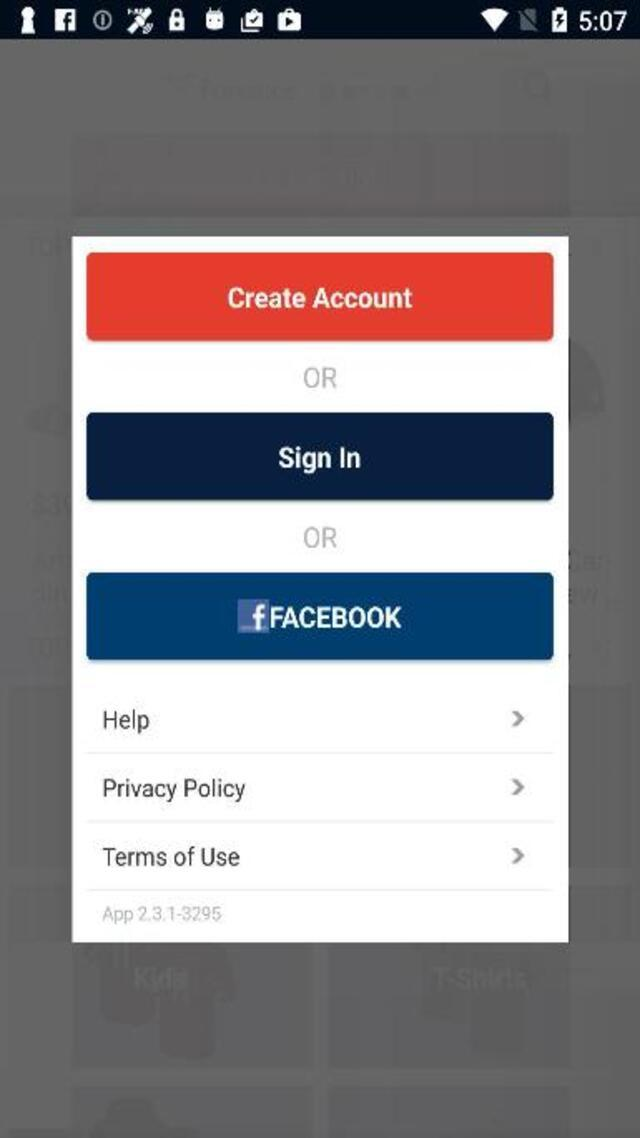Icon: (512, 778, 525, 794), (512, 848, 525, 863), (511, 712, 524, 726)
Text: (220, 284, 420, 315), (268, 602, 402, 630), (104, 778, 245, 801), (101, 845, 238, 866), (278, 442, 365, 473), (103, 906, 223, 922), (104, 710, 149, 734), (304, 526, 338, 548), (304, 367, 338, 387)
TextButton: (85, 572, 552, 659), (85, 414, 552, 500), (88, 252, 554, 338)
